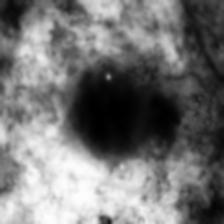Potentially Malignant Skin Tumors: (82, 86, 135, 141)
